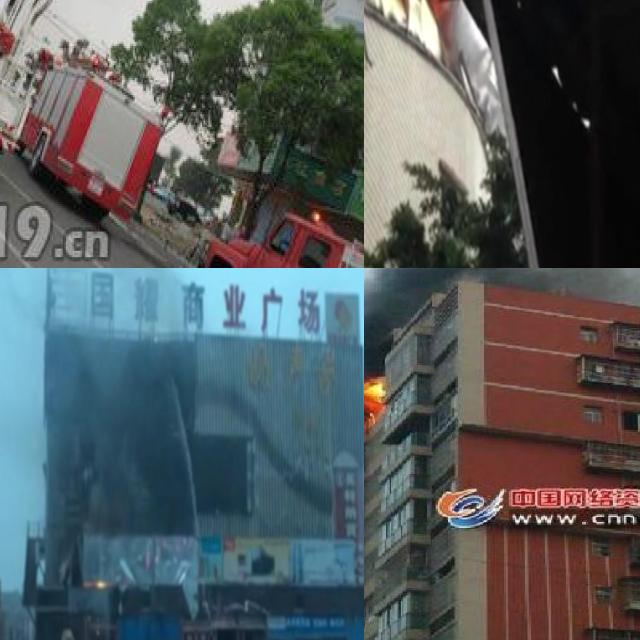fire: (364, 372, 389, 419)
smoke: (364, 268, 640, 393), (82, 346, 170, 521)
